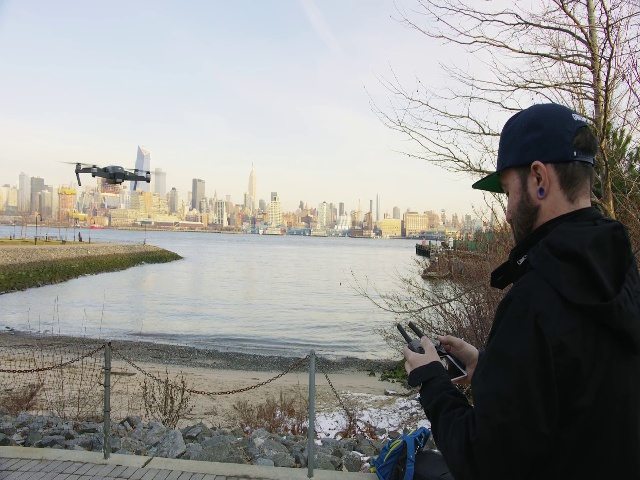drone: (57, 157, 169, 192)
